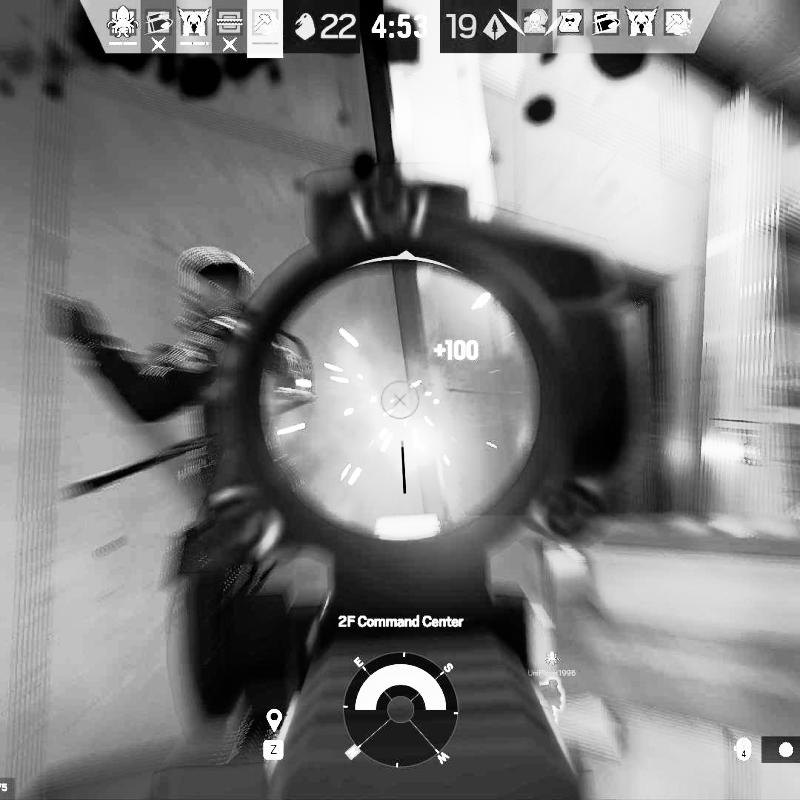Character: (49, 249, 315, 758)
Head: (182, 252, 248, 318)
